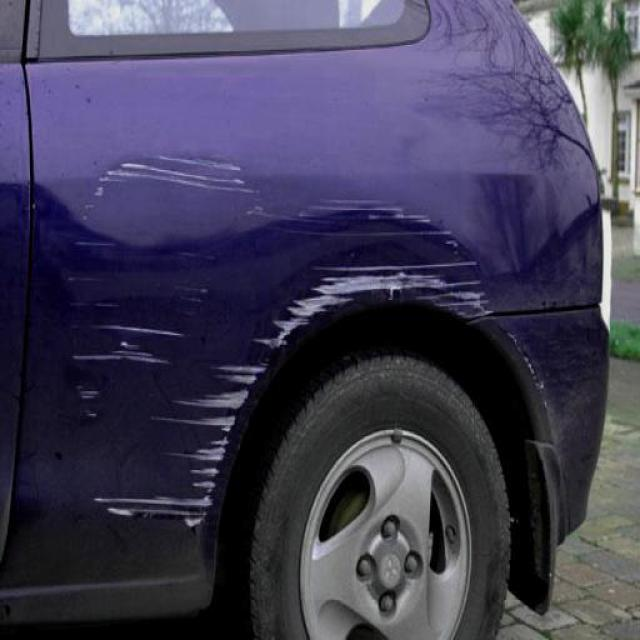car damage: (67, 152, 496, 523)
